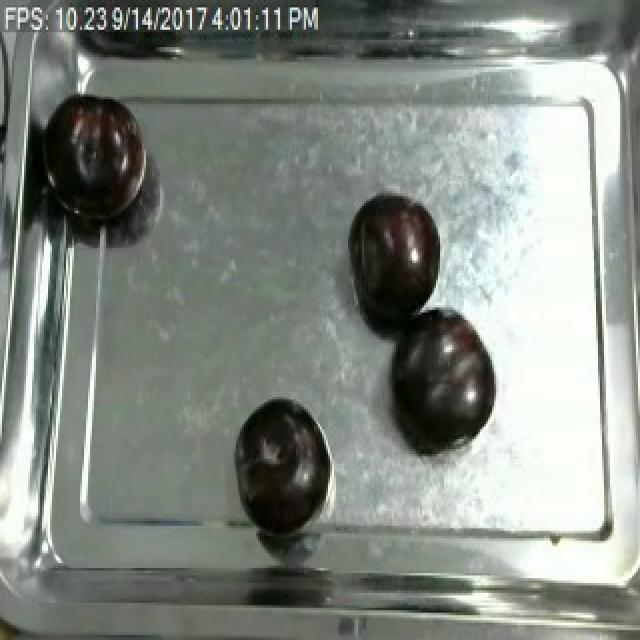Fruit: (384, 298, 502, 459), (50, 87, 156, 226), (230, 389, 330, 536), (344, 188, 444, 330)
